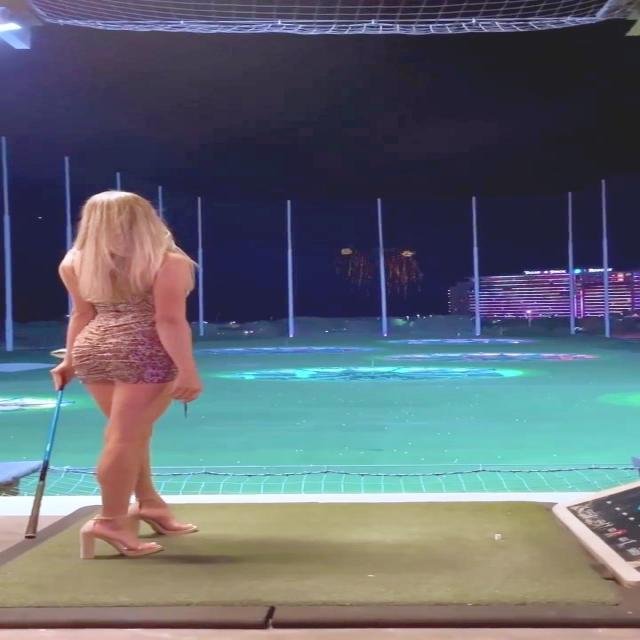golf club-handle: (24, 347, 69, 540)
golf club-head: (51, 348, 68, 360)
